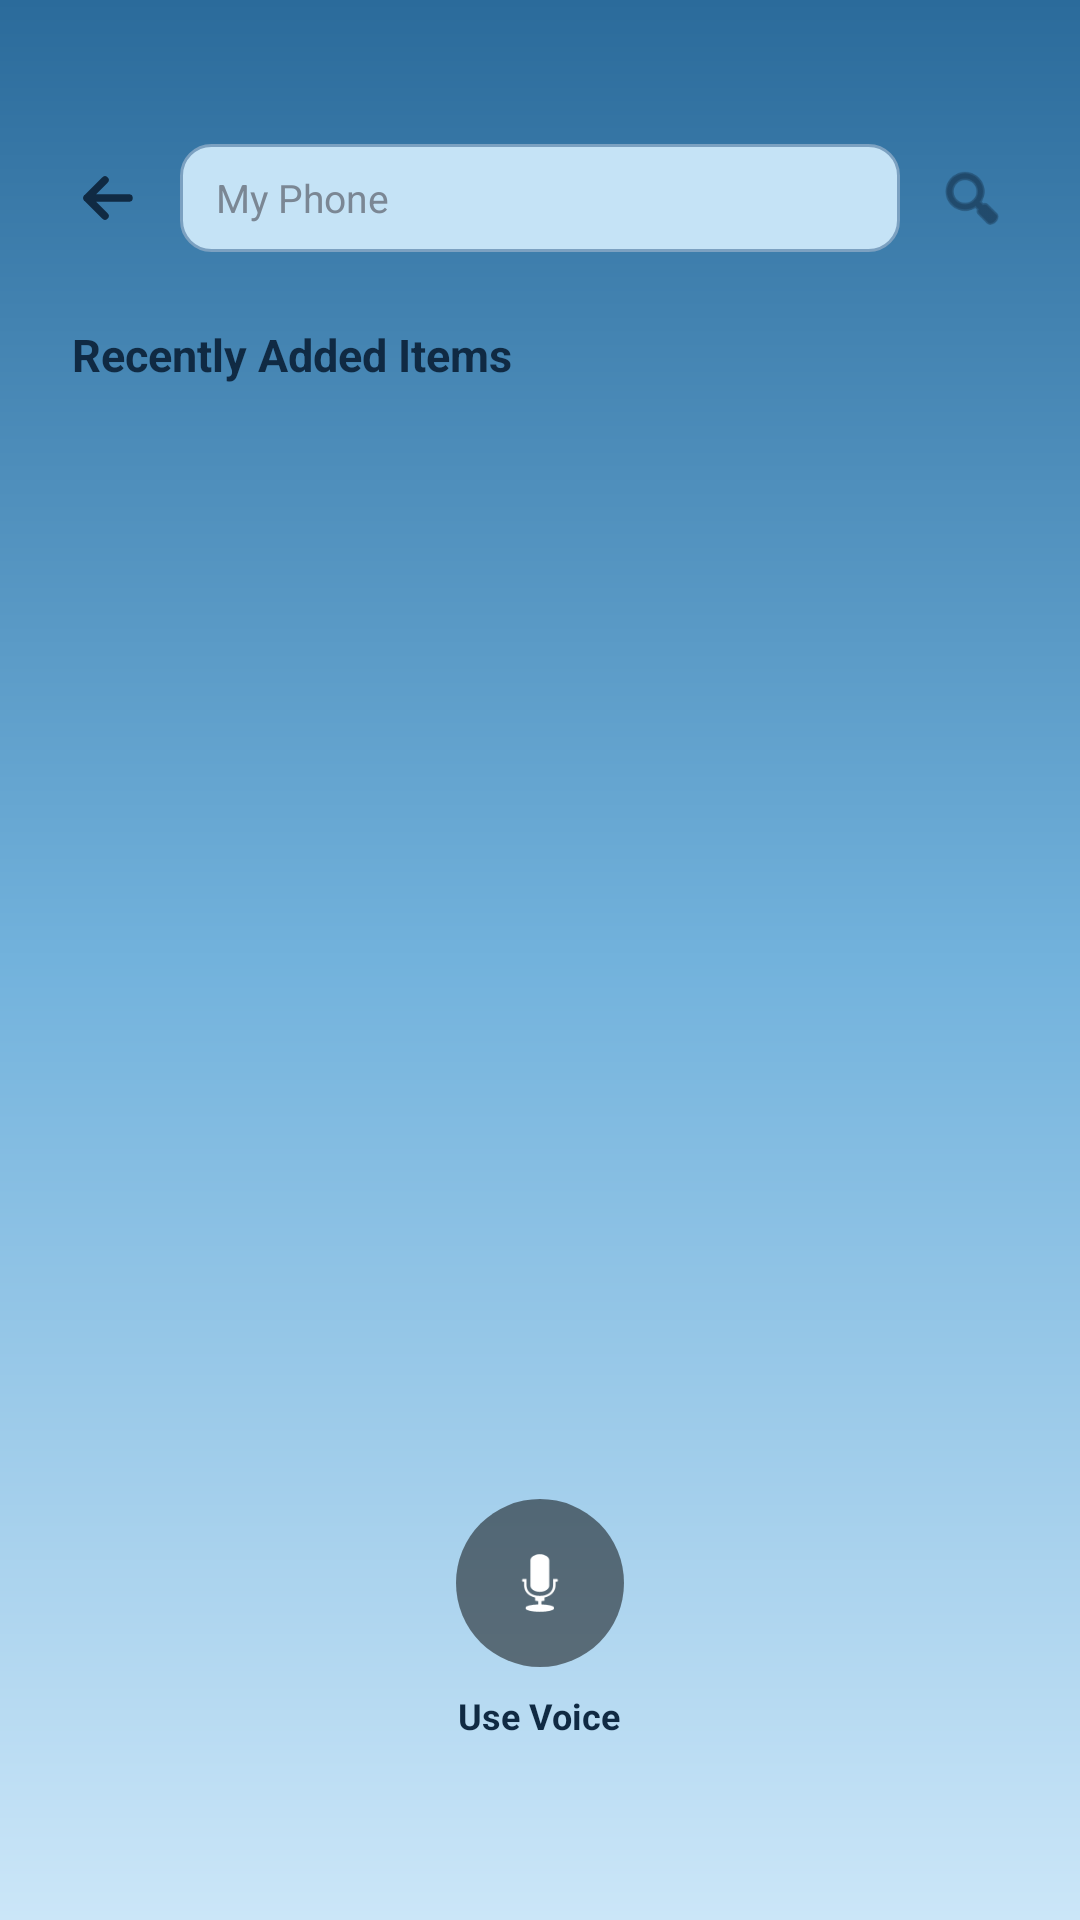

Icon bounding boxes for this 1080*1920 phone screenshot, format (x1, y1, x2, y2):
Go Back: (83, 176, 133, 220)
Search: (946, 172, 998, 225)
